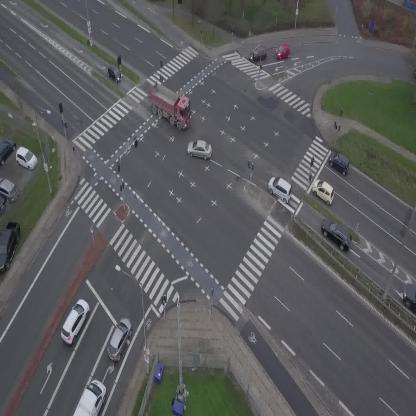car: (56, 296, 94, 347), (315, 214, 358, 254), (103, 315, 136, 363), (263, 173, 297, 205), (308, 176, 340, 206), (326, 150, 354, 176), (186, 138, 213, 160), (103, 64, 125, 85), (403, 283, 416, 312), (249, 46, 267, 61), (275, 44, 291, 60)
lorry: (141, 79, 199, 131), (73, 377, 111, 416)
